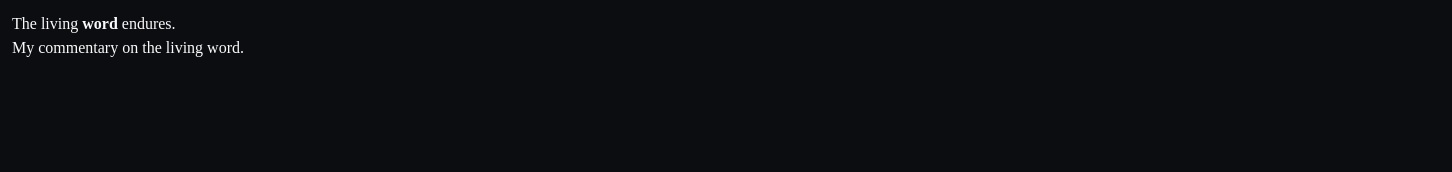
Test case: Chapter Study find shortcuts › routes Cmd+F to page search, searches Scripture and commentary across marks, cycles, and toggles closed
Later steps or results of the test are not shown.
Press f
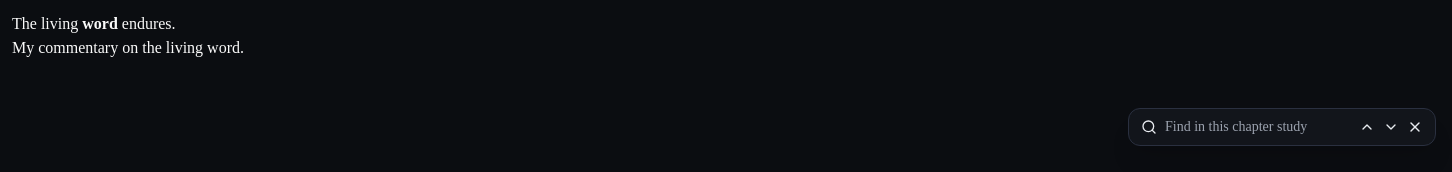
Type "LIVING word" into the field labelled "Find in this chapter study" at (1254,127), box [1165,117,1343,137]
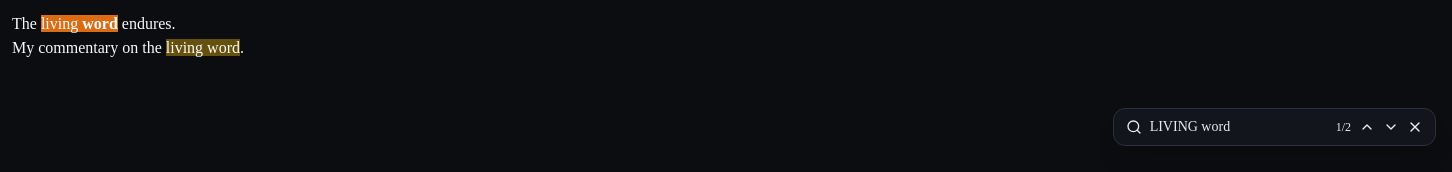
Result: the message reads "1/2" at [1336,120,1351,134]
Press Enter in the field named "Find in this chapter study", box [1150,117,1328,137]
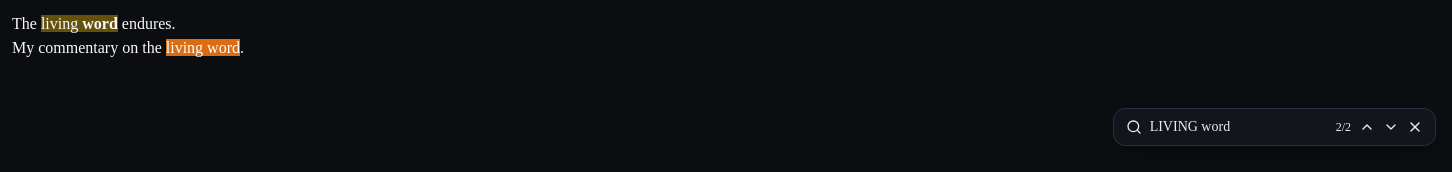
Result: the message reads "2/2" at [1336,120,1351,134]
Press Enter in the field named "Find in this chapter study", box [1150,117,1328,137]
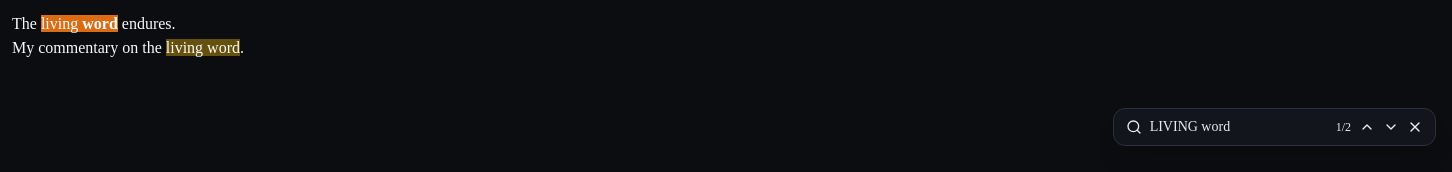
Result: the message reads "1/2" at [1336,120,1351,134]
